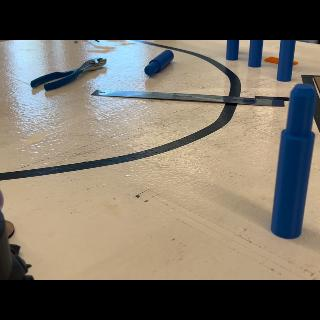teletubby: (0, 190, 4, 209)
